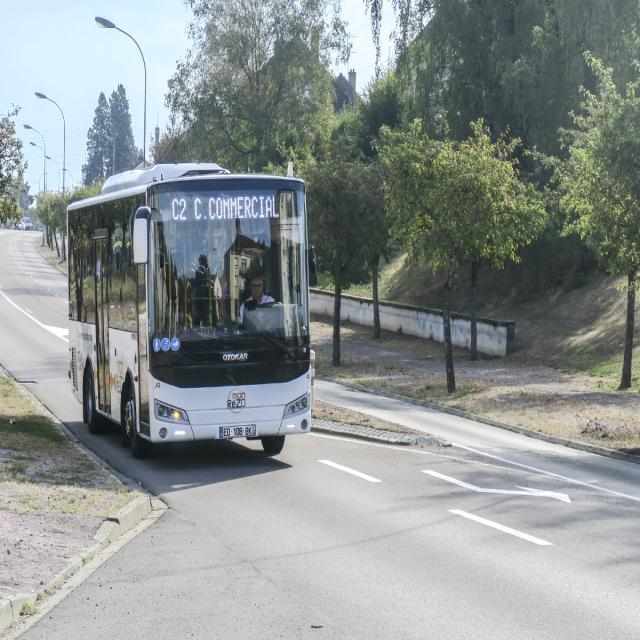Bus: (66, 162, 315, 457)
Tree: (380, 119, 546, 392), (548, 52, 640, 389)
